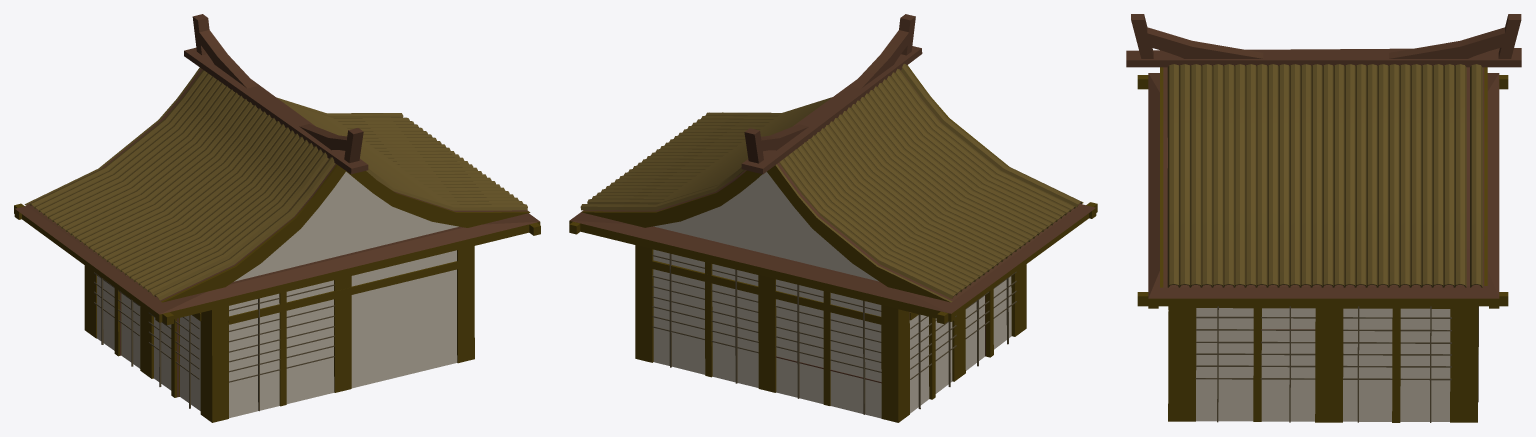
The model's file is Casa 4.fbx.
The picture shows the model from 3 angles, left to right: view 1: azimuth 30°, elevation 25°; view 2: azimuth 150°, elevation 25°; view 3: azimuth 270°, elevation 25°; orthographic projection. The views are drawn at different scales.
Parts seen in each view (by area): view 1: polySurface1026; view 2: polySurface1026; view 3: polySurface1026.
Boxes of the visible parts, left/top/right/bottom form: polySurface1026: left=14, top=14, right=540, bottom=422; polySurface1026: left=569, top=14, right=1097, bottom=422; polySurface1026: left=1126, top=14, right=1521, bottom=422.
Size of the model in its own units: 96.91 by 65.72 by 71.78.
